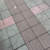zebra: (1, 14, 50, 28)
